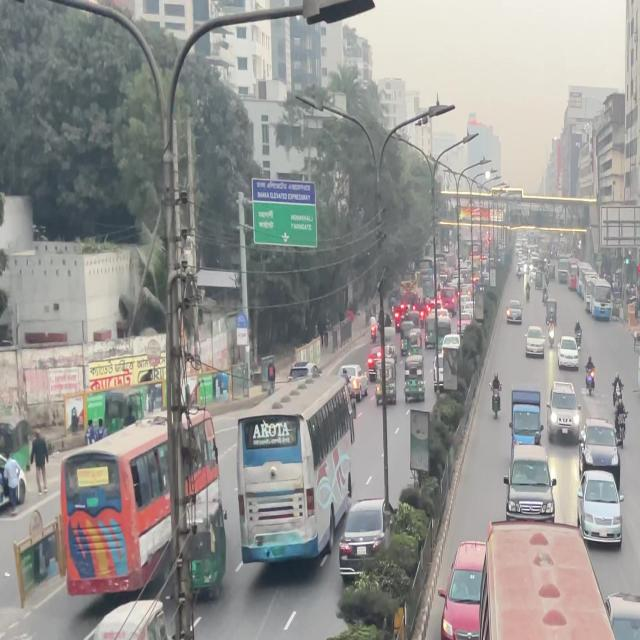bus: (58, 418, 186, 601), (480, 517, 640, 640), (236, 406, 343, 566)
car: (438, 540, 486, 640), (508, 447, 556, 521), (577, 472, 621, 551), (338, 502, 389, 565), (546, 389, 583, 444), (579, 428, 620, 476), (603, 595, 640, 640), (554, 338, 580, 367), (526, 331, 548, 358), (503, 308, 521, 328)
rickshaw: (88, 592, 178, 640)
van: (511, 390, 545, 445)
